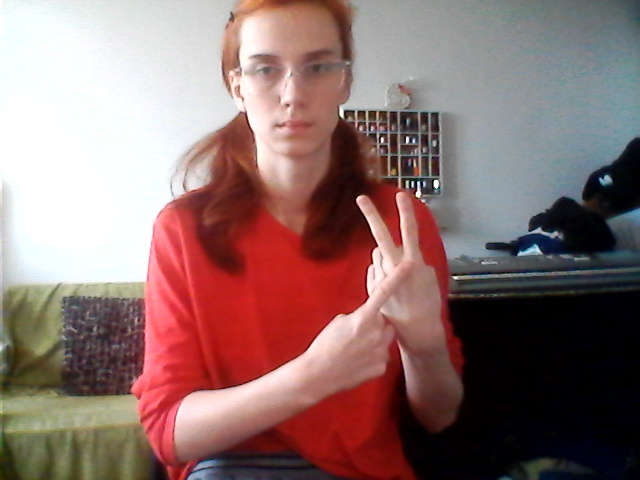y: (325, 187, 447, 386)
